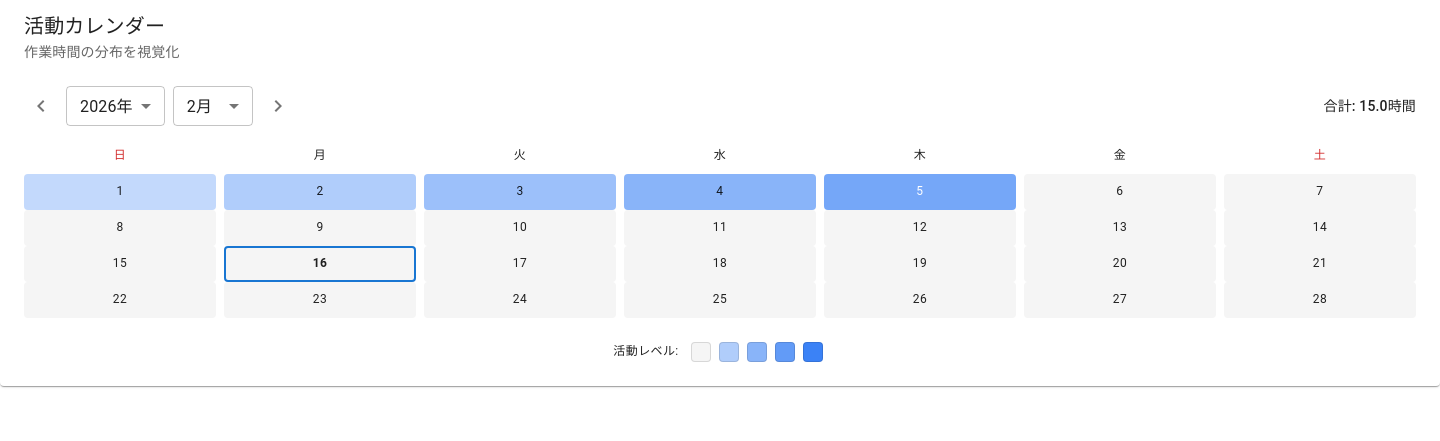
Scenario: ActivityCalendar › 年月ナビゲーション › 次月ボタンをクリックすると次月が表示される
Click the button with test id "ChevronRightIcon" at point(278, 106), box [261,89,295,123]
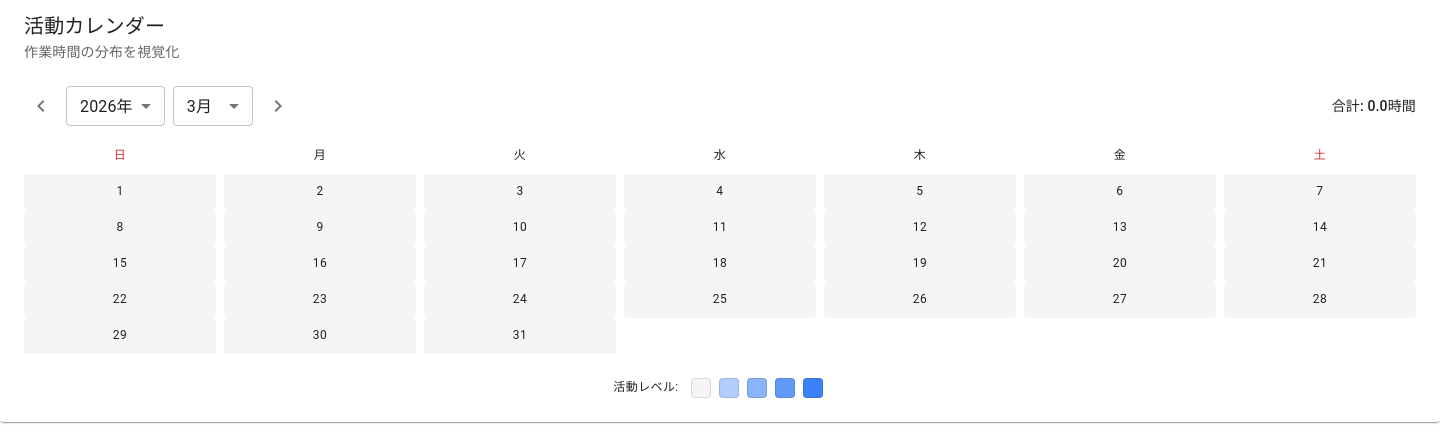
Check: the dropdown "3月" is shown, box [187,96,212,116]
